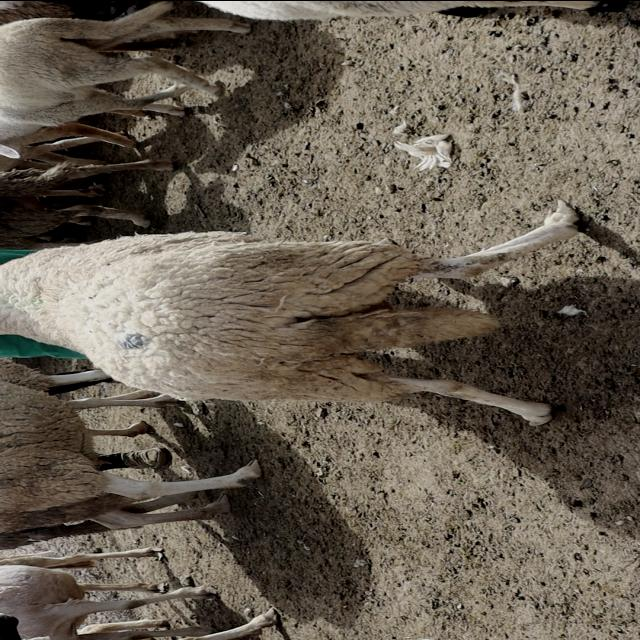Score_3: (0, 200, 578, 425)
